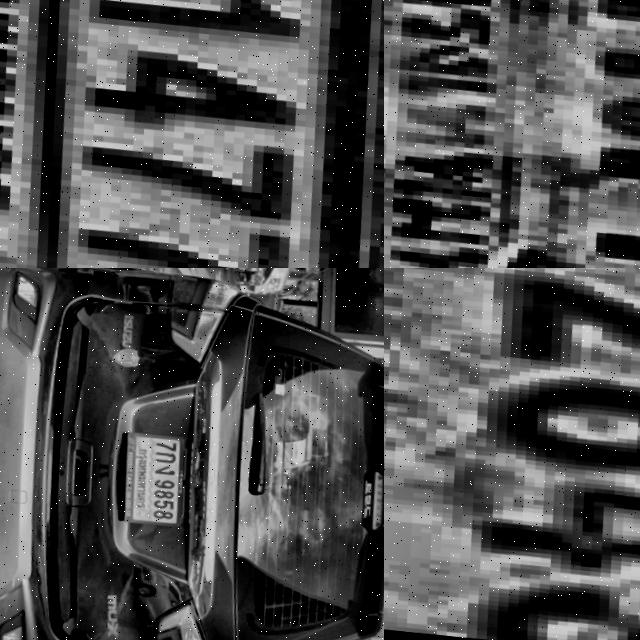license-plate: (0, 0, 384, 268), (384, 268, 640, 640), (384, 0, 640, 268), (102, 430, 185, 532)
